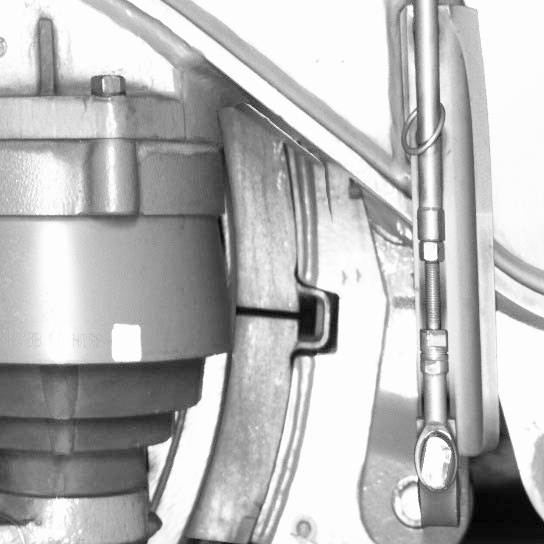ClosedKnifeSwitch: (136, 137, 318, 542)
